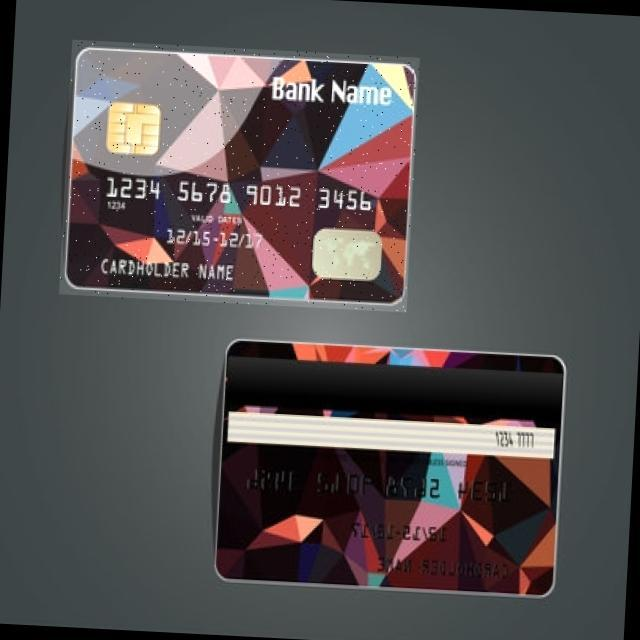payment_card: (59, 40, 419, 309), (214, 336, 568, 601)
